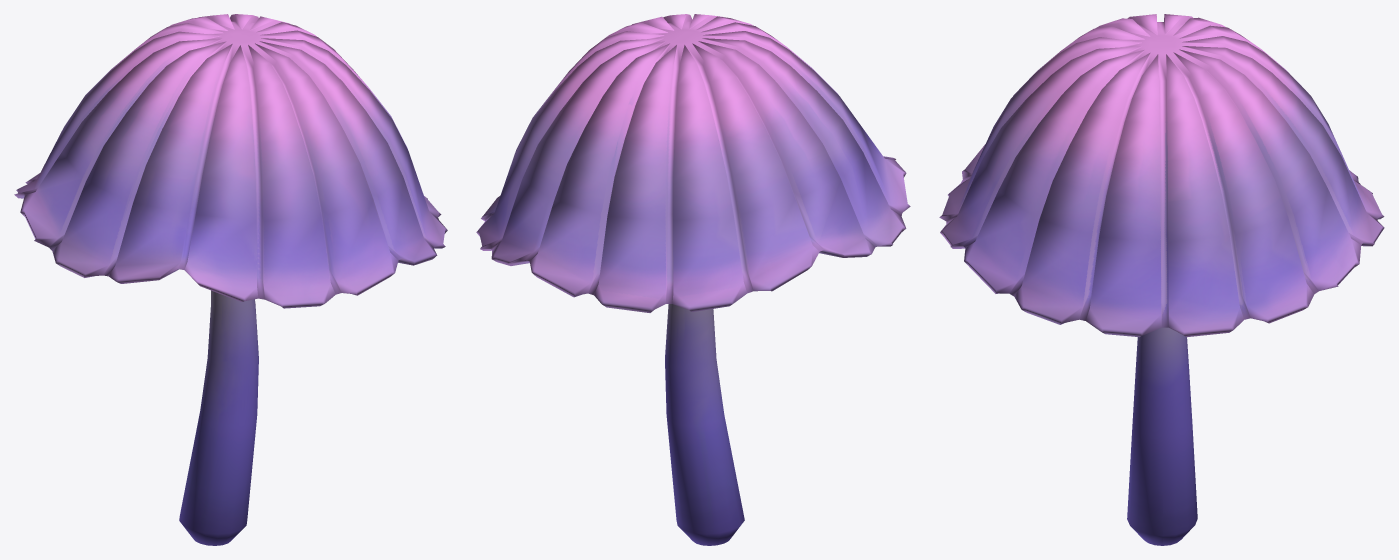
File: piposieni.fbx
3 views of the same model, side by side, from view 1: azimuth 30°, elevation 25°; view 2: azimuth 150°, elevation 25°; view 3: azimuth 270°, elevation 25° (orthographic). The views are drawn at different scales.
Parts seen in each view (by area): view 1: piposieni; view 2: piposieni; view 3: piposieni.
Part boxes in pixels (x1,y1,x2,y2): piposieni: [14, 14, 447, 545]; piposieni: [476, 14, 910, 545]; piposieni: [939, 14, 1384, 545].
Size of the model in its own units: 162 by 205 by 162.
